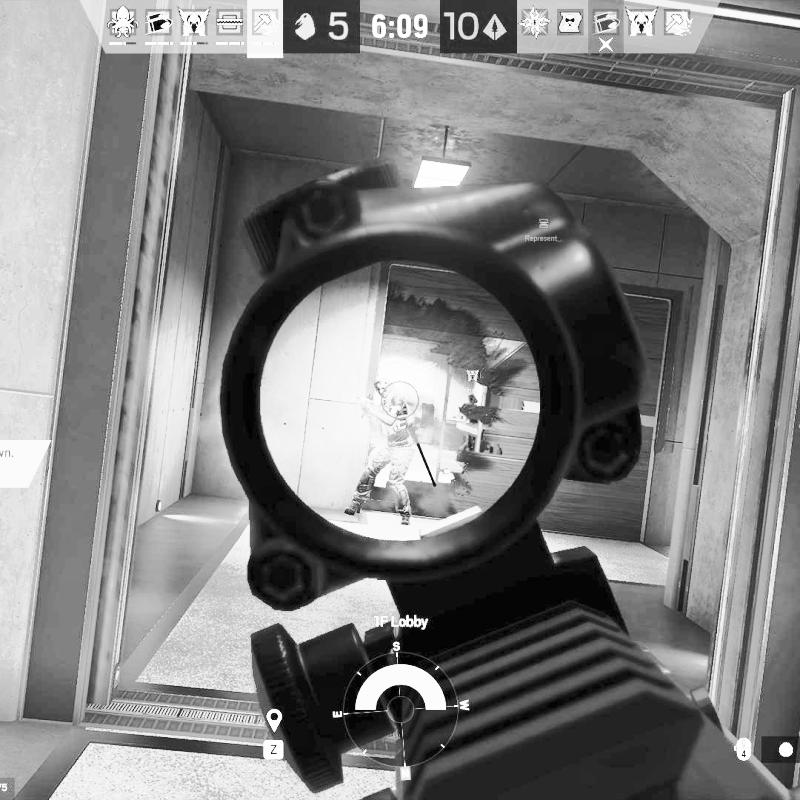Character: (340, 374, 419, 527), (460, 394, 479, 454)
Friend_label: (524, 216, 559, 244), (457, 368, 487, 394)
Head: (374, 376, 394, 402), (468, 394, 477, 405)
